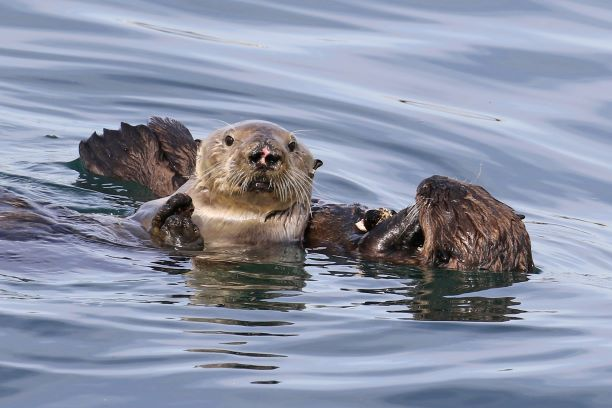otter: (170, 100, 341, 245)
